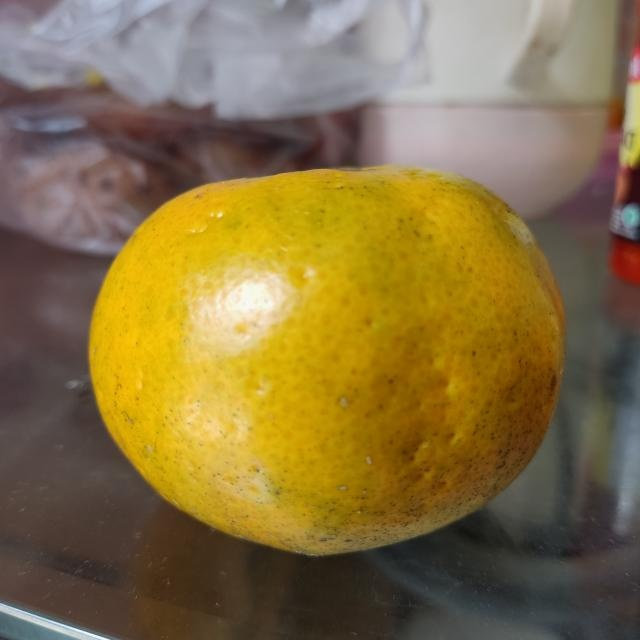agrume: (87, 164, 563, 556)
